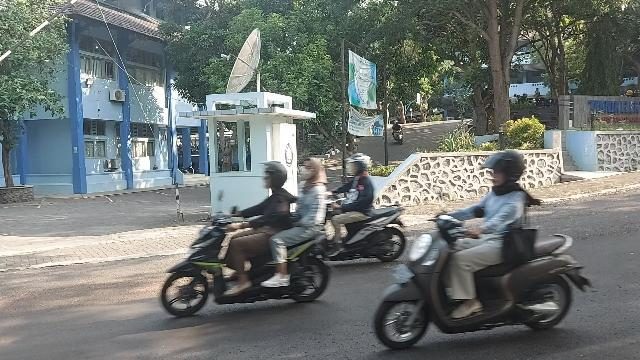helm: (482, 152, 526, 186), (260, 161, 289, 189), (348, 155, 371, 176)
motor: (375, 207, 593, 351), (163, 191, 333, 318)
non-helm: (303, 159, 322, 181)
